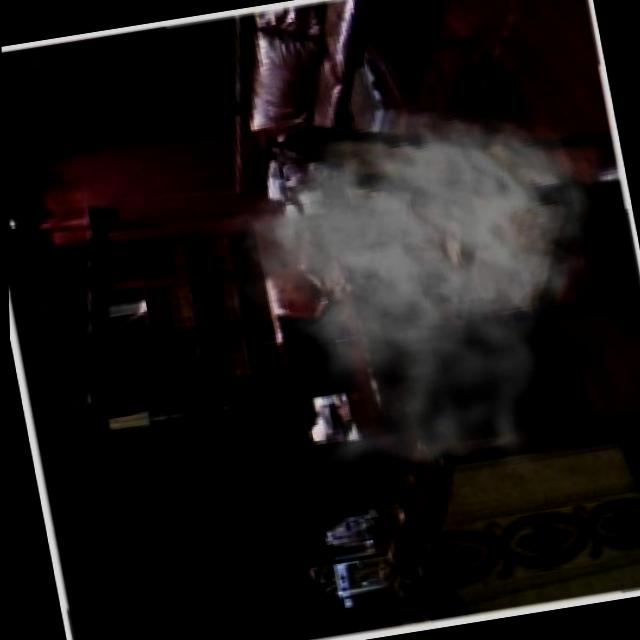Smoke: (240, 110, 609, 483)
